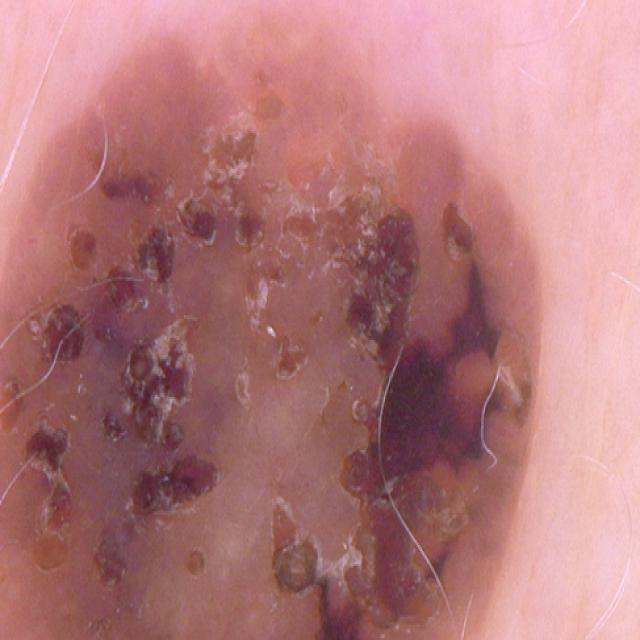Keratosis: (0, 5, 546, 640)
